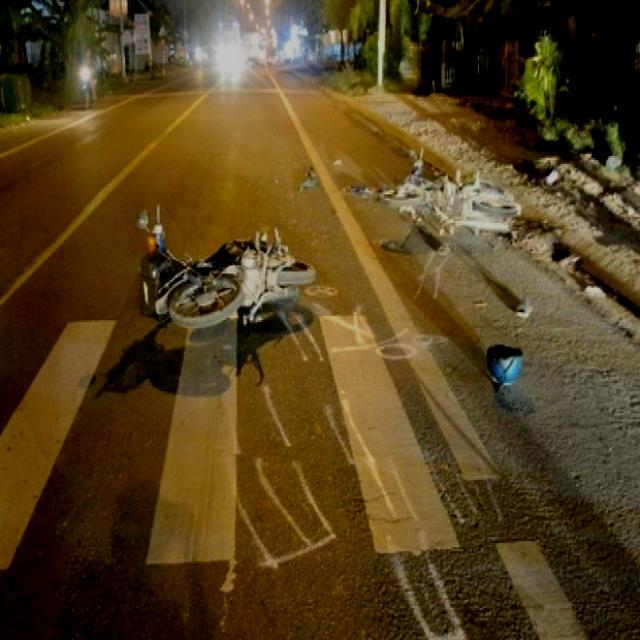accident: (113, 179, 333, 360), (375, 146, 527, 254)
